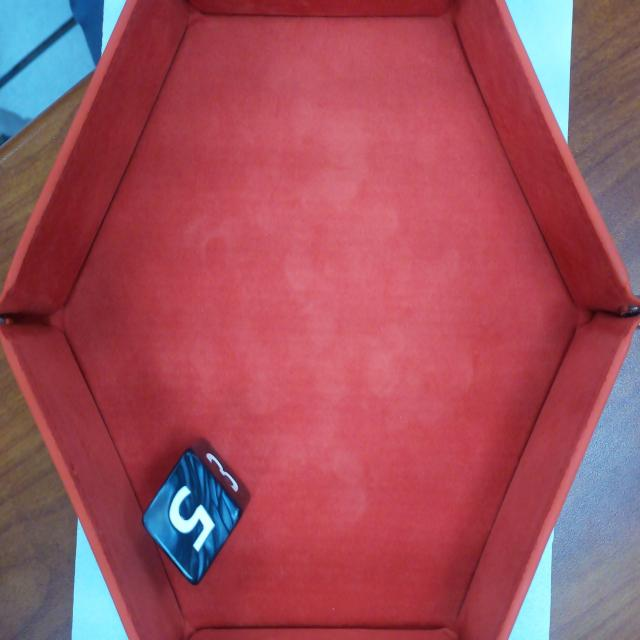dice: (140, 448, 244, 587)
